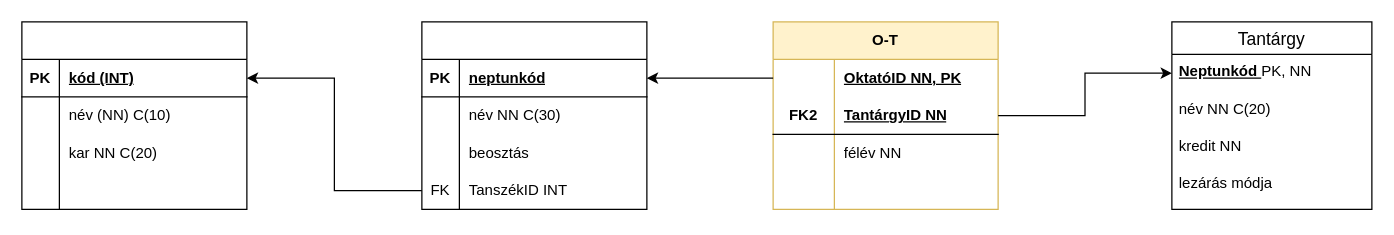
This 1394x235 diagram has some shape labels left out. The shapes that lost their labels are listed below. From the top down, each one's box as (x1, y1, x2, y2) in pixels, then its label:
(21, 21, 247, 209): Tanszék
(421, 21, 647, 209): Oktató
